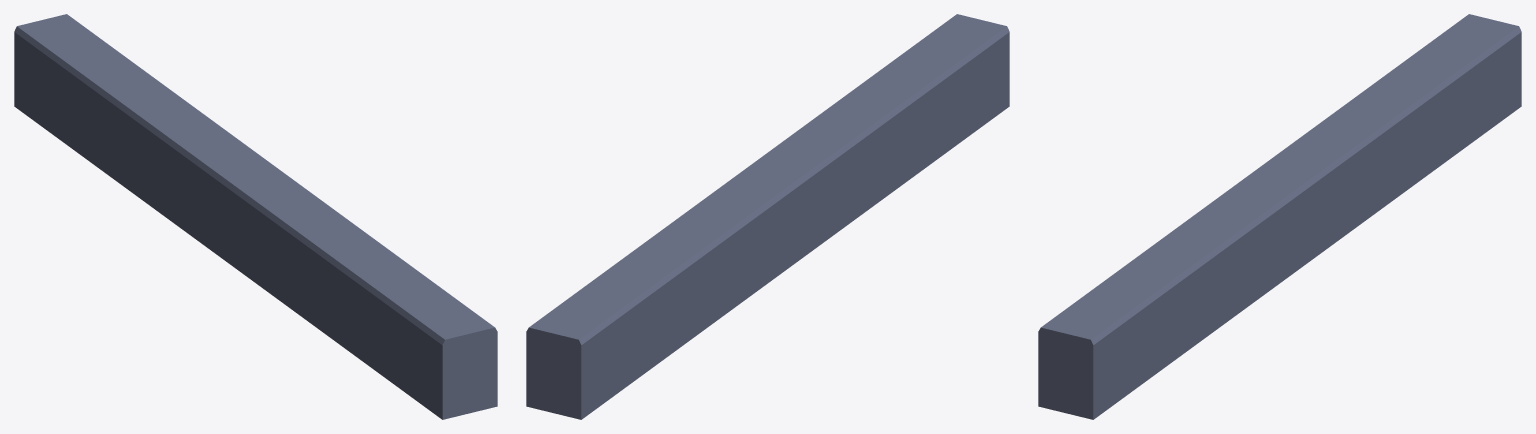
The model's file is WallTrim_Stone.fbx.
3 renders of one model, left to right at view 1: azimuth 30°, elevation 25°; view 2: azimuth 150°, elevation 25°; view 3: azimuth 330°, elevation 25°, orthographic.
Visible parts, largest first — view 1: WallTrim_Stone; view 2: WallTrim_Stone; view 3: WallTrim_Stone.
Boxes of the visible parts, bbox=[...] form: WallTrim_Stone: bbox=[14, 14, 497, 419]; WallTrim_Stone: bbox=[526, 14, 1009, 419]; WallTrim_Stone: bbox=[1038, 14, 1521, 419].
Bounding box in the file's own units: 0.1488 × 0.2051 × 2.
